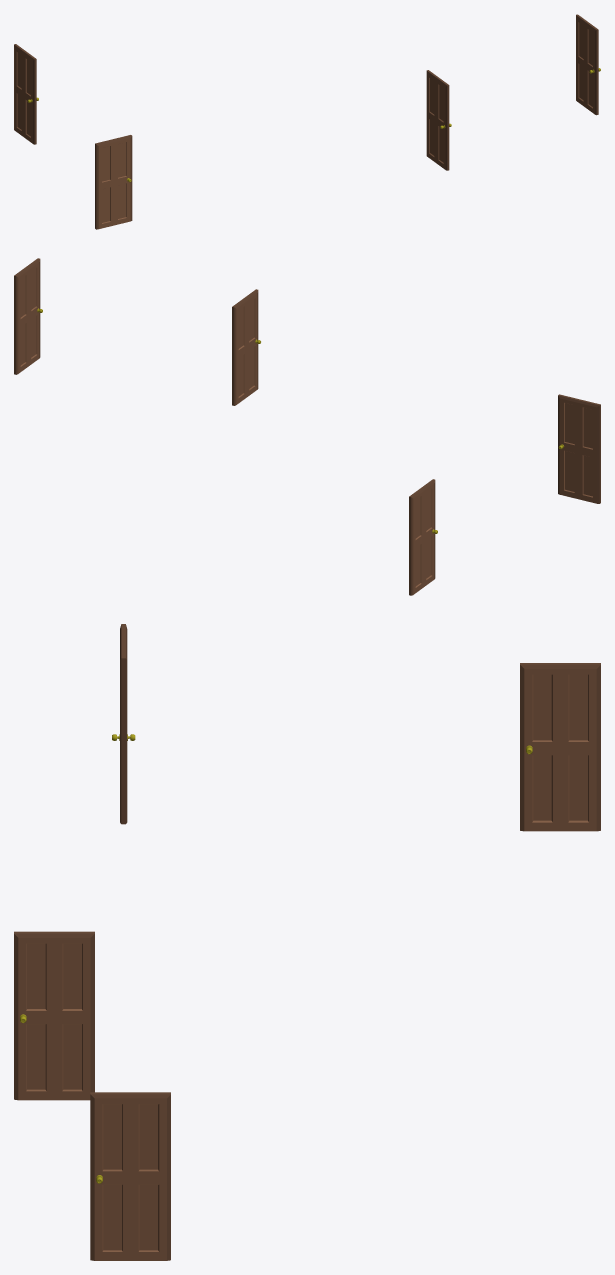
File: PuertasV1Cuartos.fbx
The picture shows the model from 3 angles, top to bottom: view 1: azimuth 30°, elevation 25°; view 2: azimuth 150°, elevation 25°; view 3: azimuth 270°, elevation 25°; orthographic projection. The views are drawn at different scales.
Visible parts, largest first — view 1: Plane.021, Plane.023, Plane.019, Plane.026, Plane.020, Plane.022, Plane.018, Plane.024; view 2: Plane.021, Plane.019, Plane.023, Plane.026, Plane.022, Plane.018, Plane.024, Plane.020; view 3: Plane.019, Plane.026, Plane.023, Plane.022, Plane.018, Plane.024, Plane.020.
Part boxes in pixels (x1=…): Plane.021: x1=98, y1=138, x2=131, y2=228; Plane.023: x1=427, y1=73, x2=451, y2=169; Plane.019: x1=14, y1=47, x2=38, y2=143; Plane.026: x1=576, y1=18, x2=600, y2=114; Plane.020: x1=95, y1=135, x2=132, y2=229; Plane.022: x1=426, y1=70, x2=449, y2=170; Plane.018: x1=14, y1=44, x2=36, y2=144; Plane.024: x1=576, y1=14, x2=598, y2=115; Plane.021: x1=558, y1=398, x2=596, y2=503; Plane.019: x1=413, y1=483, x2=437, y2=594; Plane.023: x1=236, y1=293, x2=260, y2=404; Plane.026: x1=18, y1=262, x2=42, y2=373; Plane.022: x1=232, y1=289, x2=258, y2=405; Plane.018: x1=409, y1=479, x2=435, y2=595; Plane.024: x1=14, y1=258, x2=40, y2=374; Plane.020: x1=558, y1=394, x2=600, y2=503; Plane.019: x1=524, y1=669, x2=596, y2=831; Plane.026: x1=94, y1=1098, x2=166, y2=1260; Plane.023: x1=18, y1=938, x2=90, y2=1100; Plane.022: x1=14, y1=931, x2=94, y2=1100; Plane.018: x1=520, y1=663, x2=600, y2=831; Plane.024: x1=90, y1=1092, x2=170, y2=1260; Plane.020: x1=120, y1=624, x2=127, y2=824.
Bounding box in the file's own units: 12401 × 2025 × 6488.
